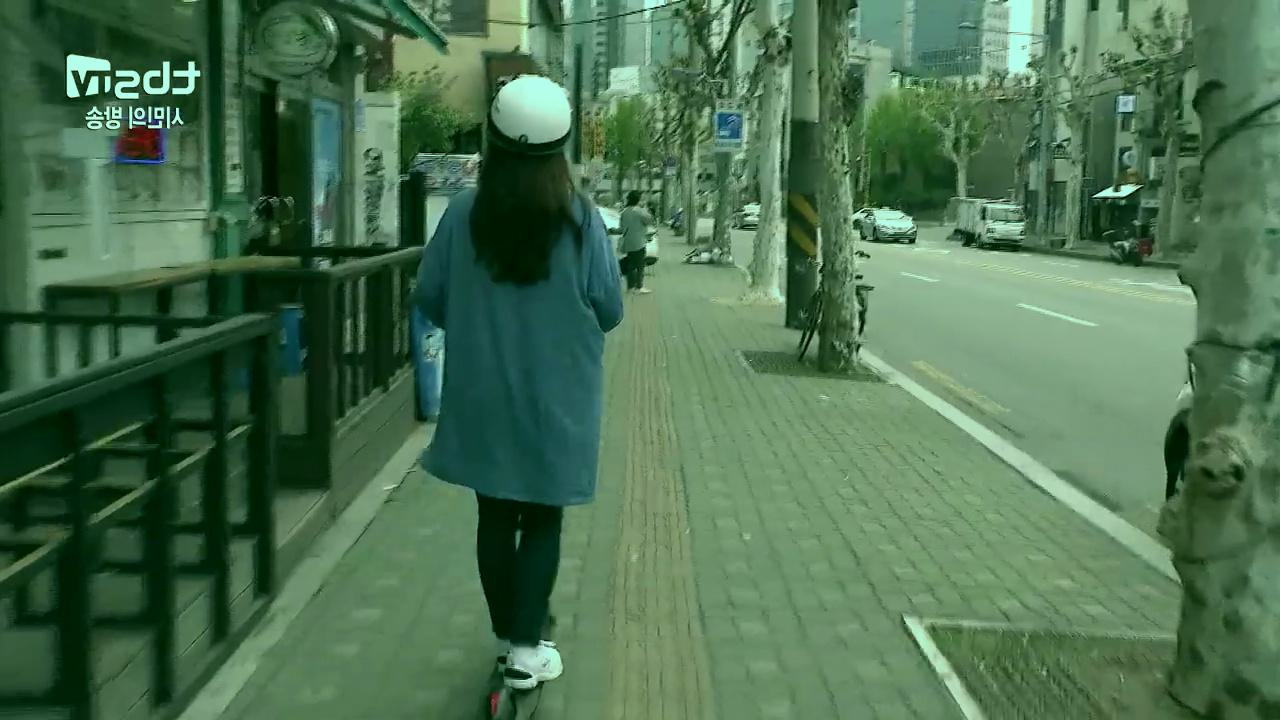helmet: (402, 69, 624, 720)
